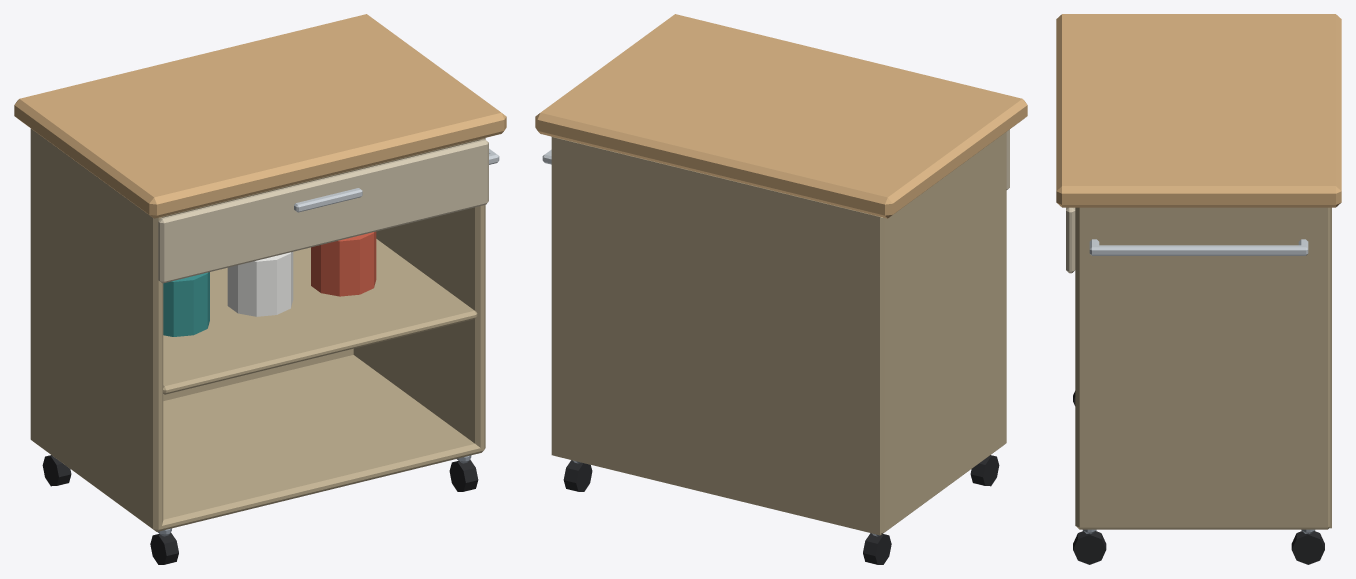
The model's file is rolling_island.glb.
3 renders of one model, left to right at view 1: azimuth 30°, elevation 25°; view 2: azimuth 150°, elevation 25°; view 3: azimuth 270°, elevation 25°, orthographic.
Parts seen in each view (by area): view 1: rolling_island_Body; view 2: rolling_island_Body; view 3: rolling_island_Body.
Boxes of the visible parts, <box> form: rolling_island_Body: <box>14,14,506,564</box>; rolling_island_Body: <box>535,14,1027,564</box>; rolling_island_Body: <box>1056,14,1341,564</box>.
Bounding box in the file's own units: 0.9 × 0.9 × 0.6.
